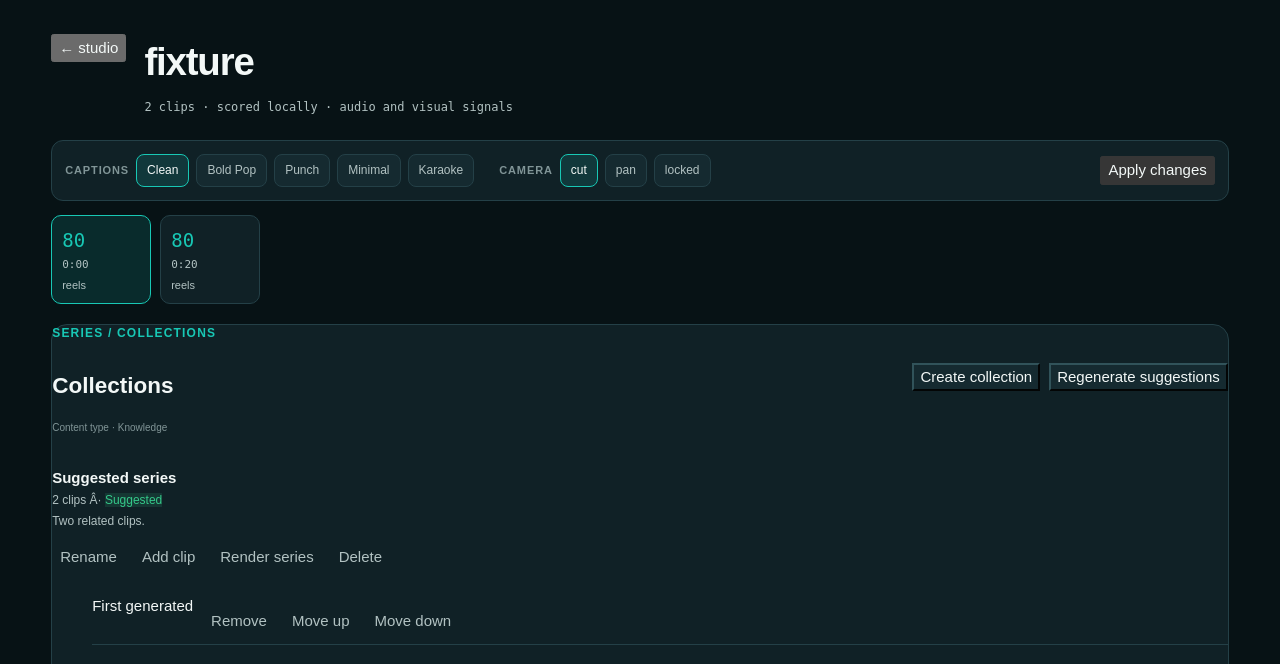
Review media trust states › surfaces a missing collection render path
Click the button "Render series" at (267, 557), box [212, 543, 322, 571]
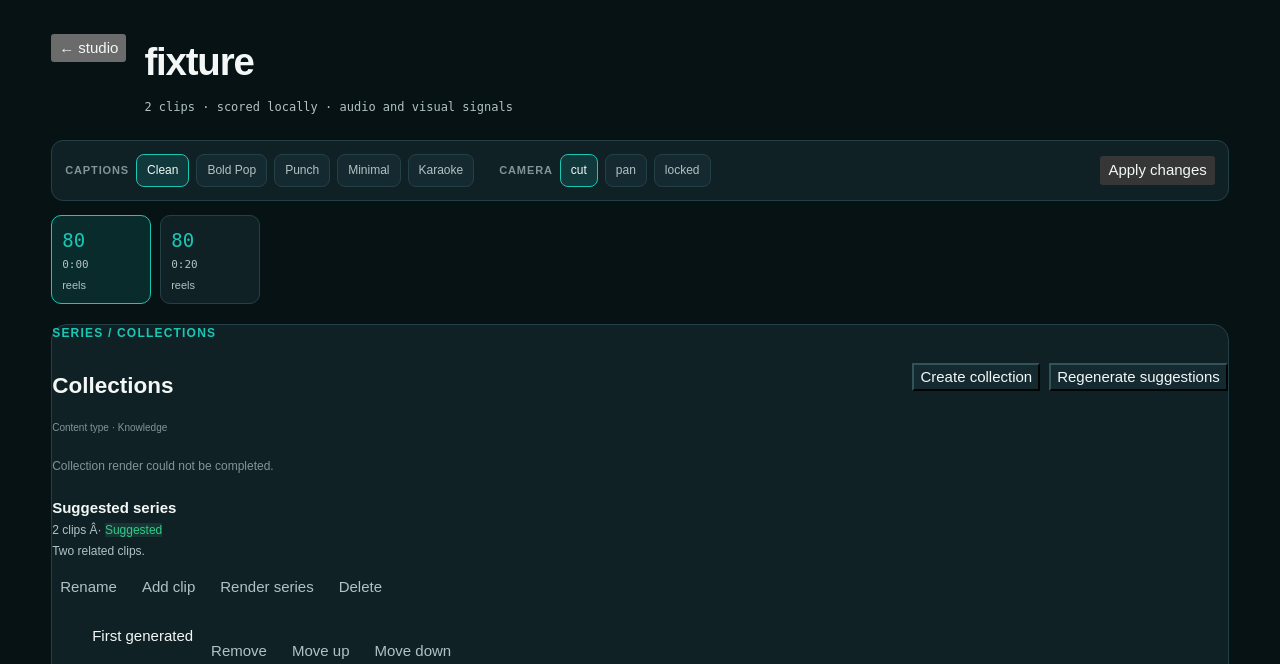
Now the text "Collection render could not be completed." is shown, box [52, 459, 274, 473]
